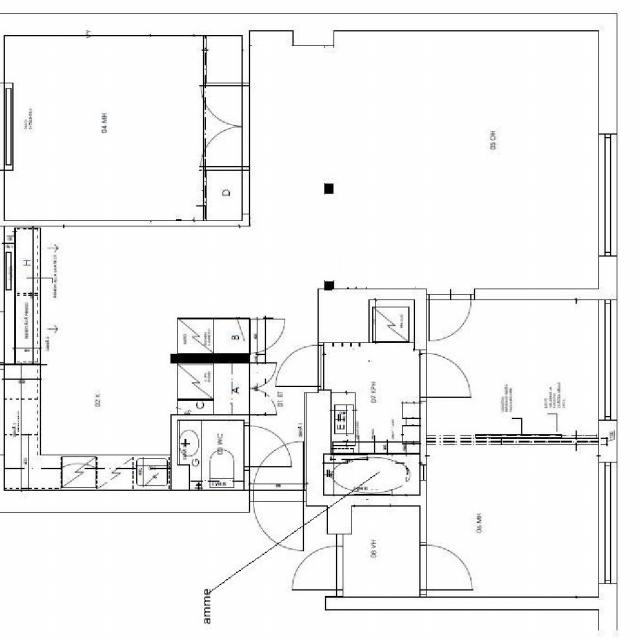door: (253, 490, 304, 551), (253, 441, 304, 501), (420, 544, 474, 590), (420, 354, 472, 398), (292, 546, 343, 590), (429, 289, 471, 341), (201, 85, 250, 126), (201, 126, 250, 166), (276, 346, 324, 386), (244, 426, 290, 467)
